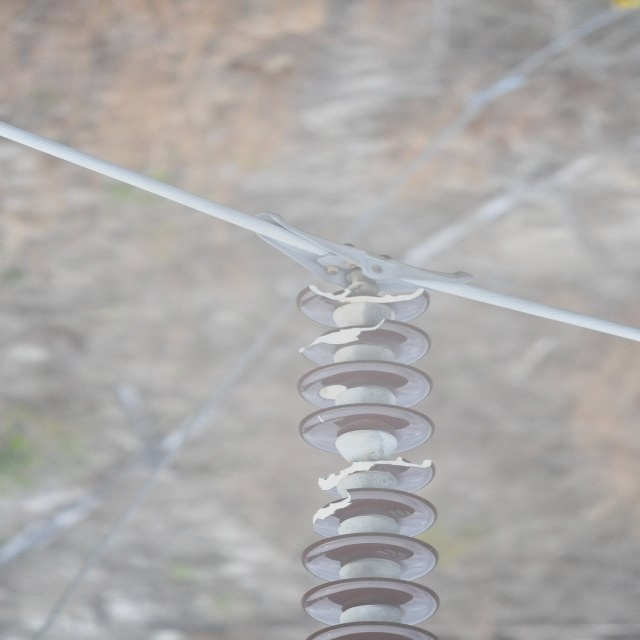broken: (292, 312, 393, 355), (317, 455, 438, 489), (305, 280, 431, 304), (312, 486, 359, 536)
insulator: (282, 284, 446, 640)
